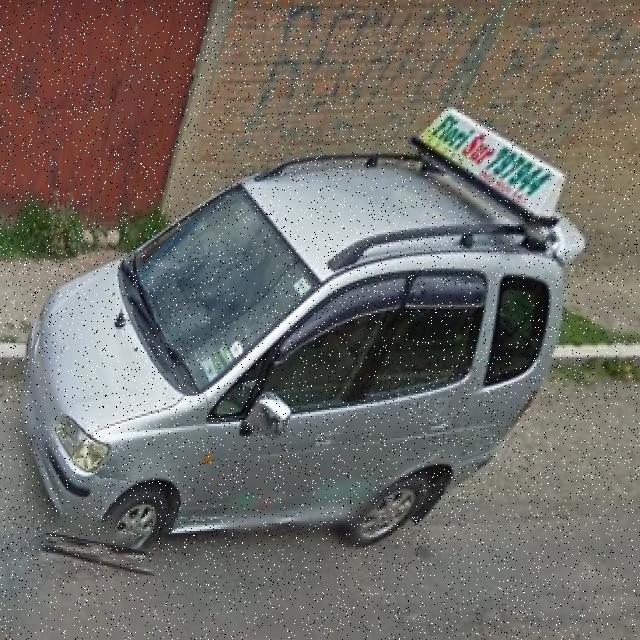cars: (28, 123, 576, 558)
